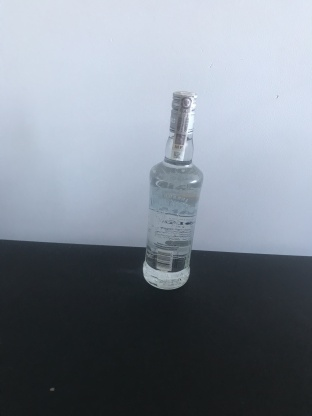nakretka: (167, 87, 199, 138)
